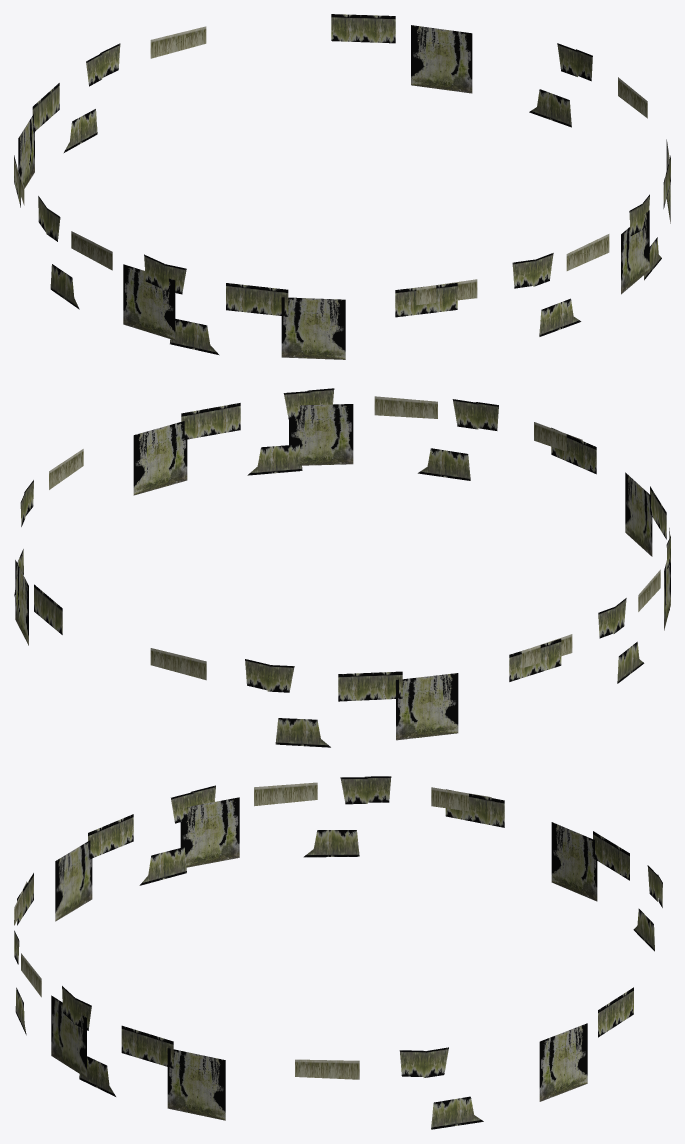
Rendered from arena_moss.fbx.
3 renders of one model, top to bottom at view 1: azimuth 30°, elevation 25°; view 2: azimuth 150°, elevation 25°; view 3: azimuth 270°, elevation 25°, orthographic.
Parts seen in each view (by area): view 1: Circle.034; view 2: Circle.034; view 3: Circle.034.
Boxes of the visible parts, box(x1,y1,x2,y2) form: Circle.034: box(14, 14, 670, 359); Circle.034: box(14, 388, 670, 747); Circle.034: box(14, 776, 662, 1129).
Size of the model in its own units: 1997 by 275 by 1990.
